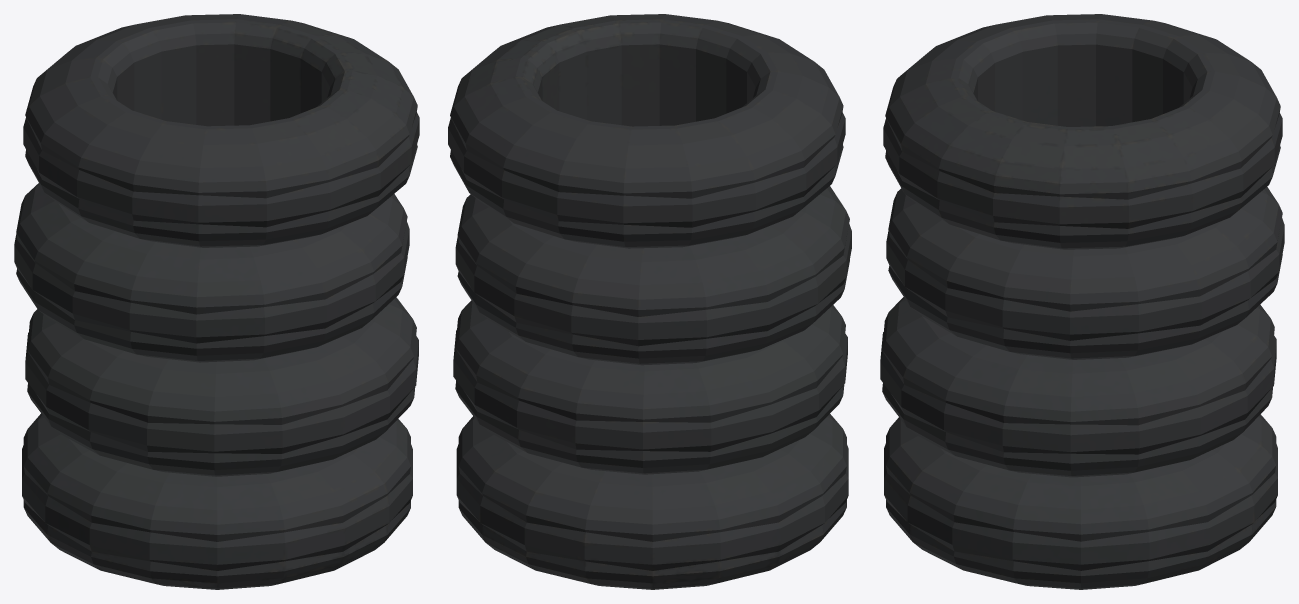
File: used_tire_stacked.glb
3 renders of one model, left to right at view 1: azimuth 30°, elevation 25°; view 2: azimuth 150°, elevation 25°; view 3: azimuth 270°, elevation 25°, orthographic.
Visible parts, largest first — view 1: TireBodyStacked; view 2: TireBodyStacked; view 3: TireBodyStacked.
Part boxes in pixels (x1,y1,x2,y2): TireBodyStacked: (14, 14, 419, 589); TireBodyStacked: (448, 14, 851, 589); TireBodyStacked: (880, 14, 1284, 589).
Size of what is drawn, in the model's own units: 0.6319 by 0.78 by 0.6267.
1 material, 1 textured.
